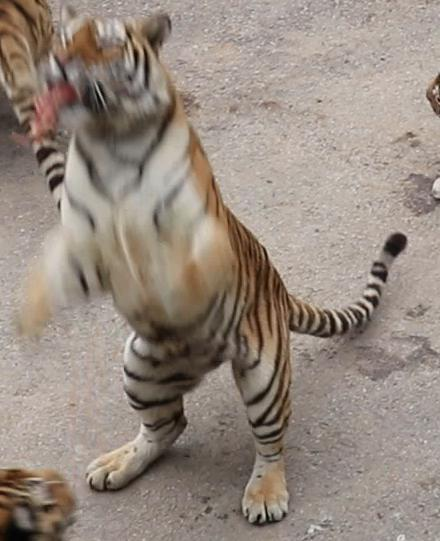tiger: (0, 0, 405, 523)
